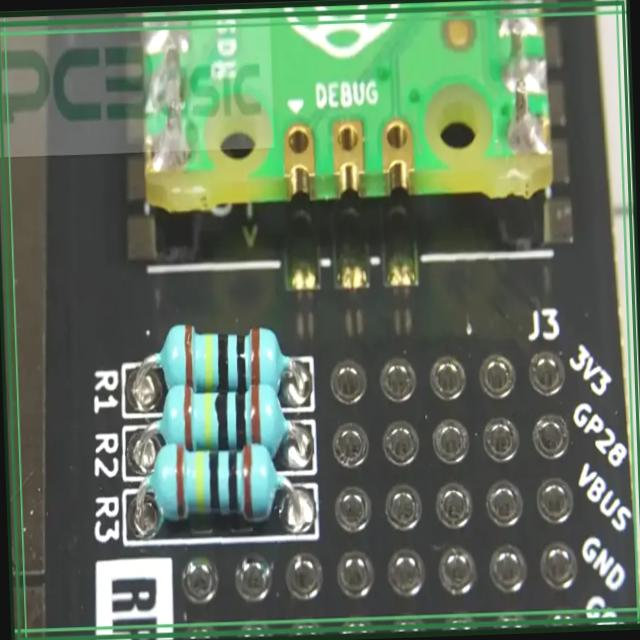resistor: (138, 434, 308, 534), (151, 379, 309, 469), (148, 313, 291, 402)
